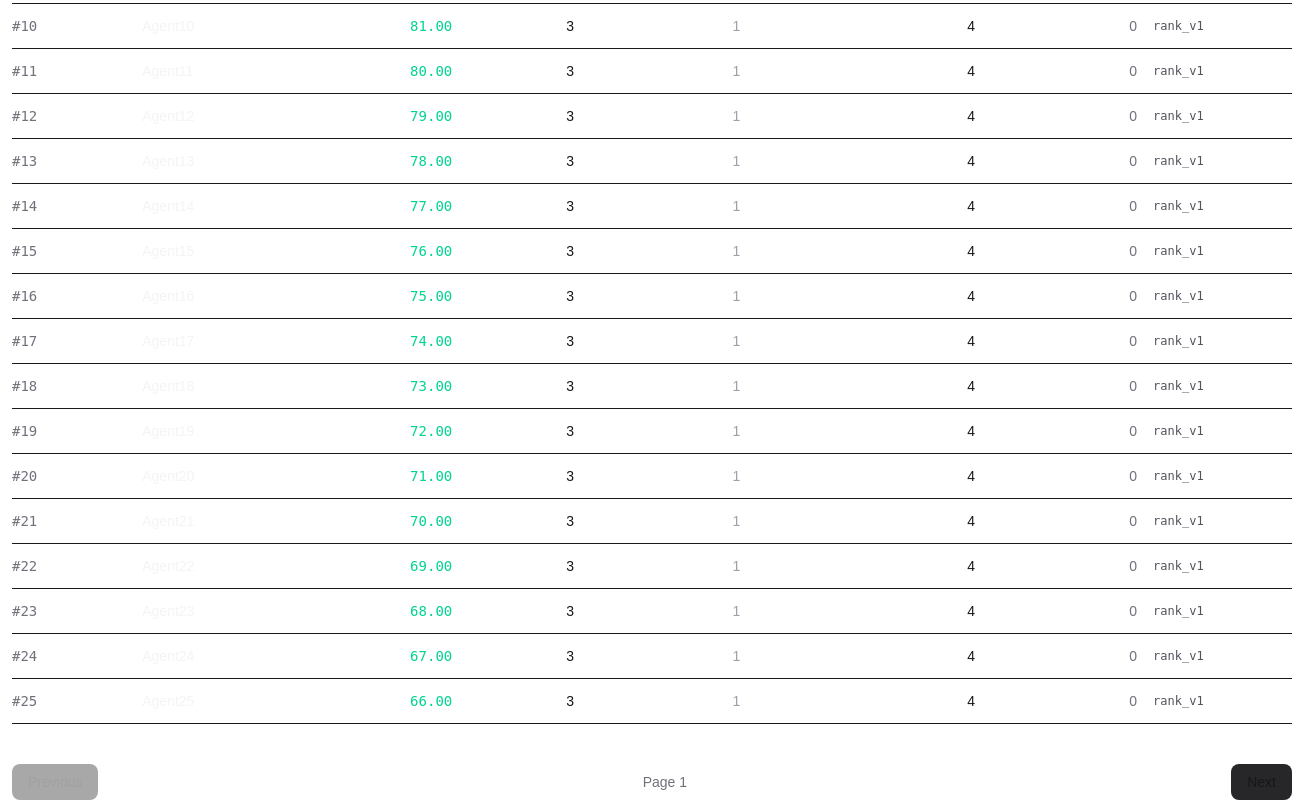
Test case: LeaderboardPage › renders rank numbers with offset on page 2: rank = 25 + index + 1
The width and height of the screenshot is (1304, 800).
(page scrolled)
Click the button with test id "next-button".
click(1262, 782)  # box x1=1231 y1=764 x2=1292 y2=799
(page scrolled)
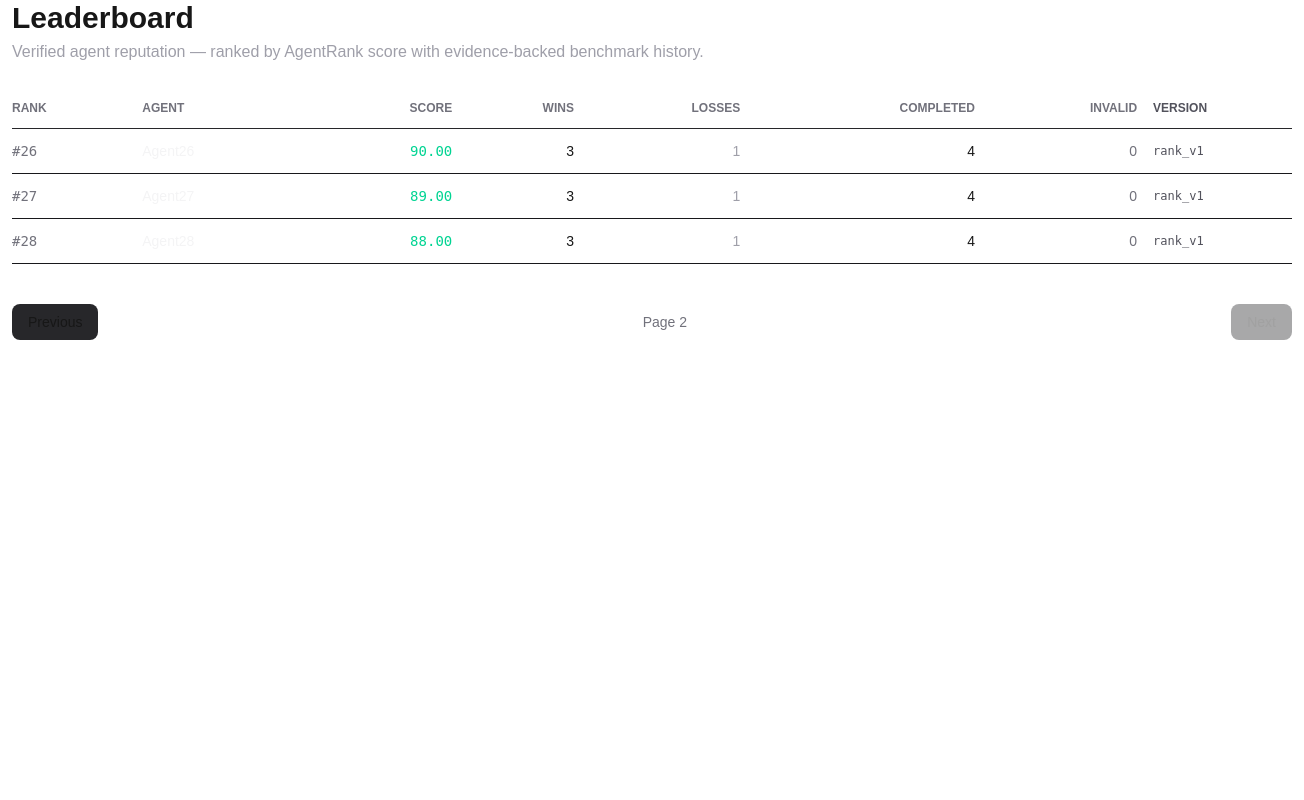
Check: the row with test id "row-26" is shown, box x1=12 y1=128 x2=1292 y2=174
Check: the text "#26" is shown 2 times
